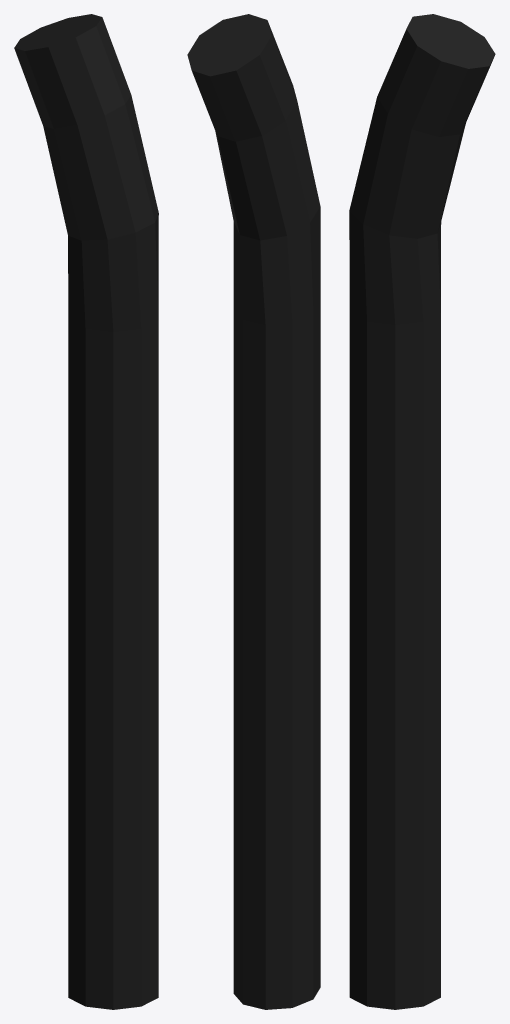
File: exhaust1.glb
3 renders of one model, left to right at view 1: azimuth 90°, elevation 25°; view 2: azimuth 150°, elevation 25°; view 3: azimuth 270°, elevation 25°, orthographic.
Parts seen in each view (by area): view 1: exhaust1; view 2: exhaust1; view 3: exhaust1.
Boxes of the visible parts, x1,y1,x2,y2 form: exhaust1: (14,14,158,1009); exhaust1: (187,14,320,1009); exhaust1: (349,14,495,1009).
Bounding box in the file's own units: 0.1577 × 1.61 × 0.2189.
1 material, 1 textured.
